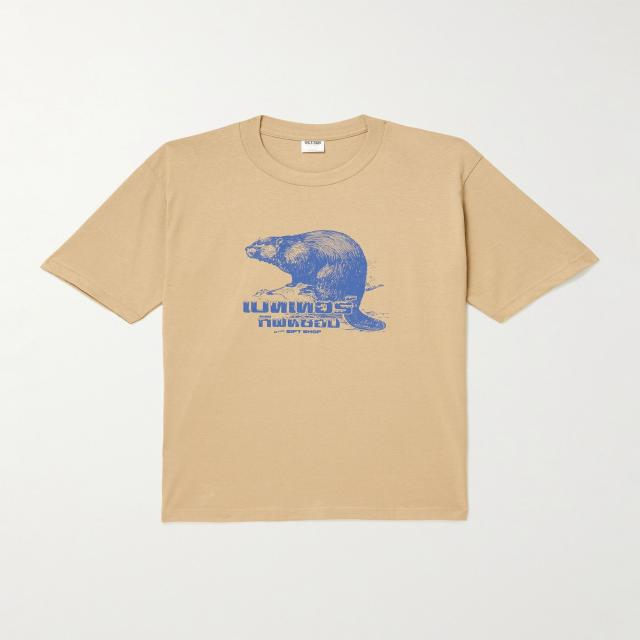tshirt: (39, 114, 602, 526)
